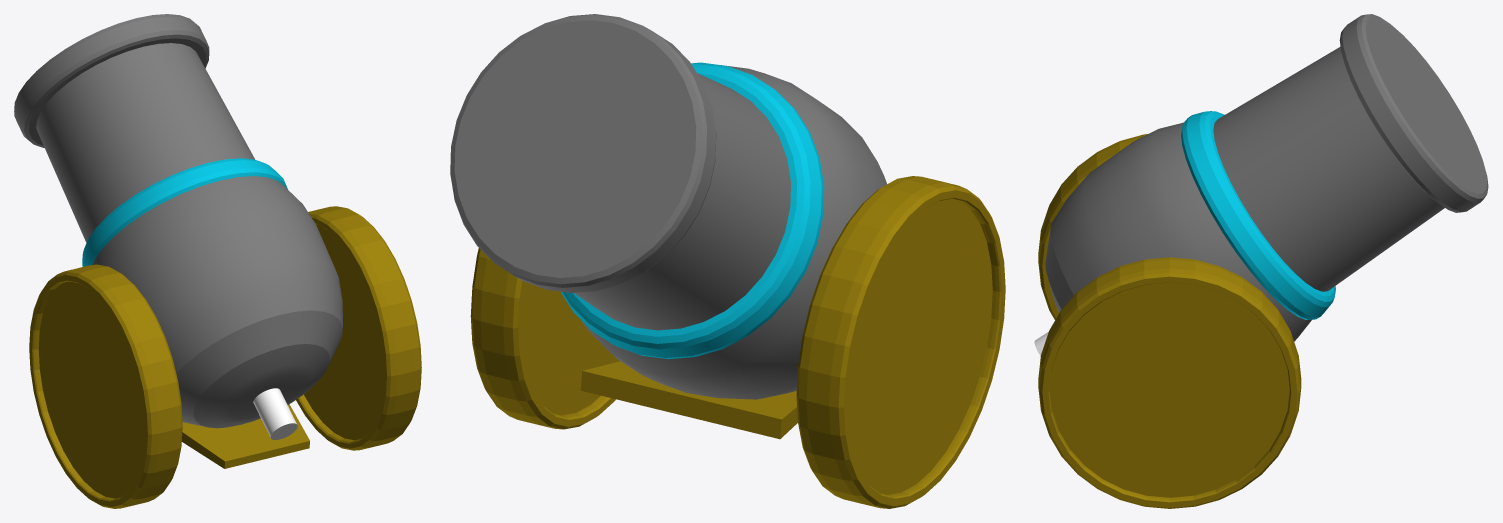
Rendered from connon_gun.fbx.
3 views of the same model, side by side, from view 1: azimuth 30°, elevation 25°; view 2: azimuth 150°, elevation 25°; view 3: azimuth 270°, elevation 25° (orthographic). The views are drawn at different scales.
Parts seen in each view (by area): view 1: connon, wheel, platform; view 2: connon, wheel, platform; view 3: connon, wheel.
Part boxes in pixels (bbox=[...]): connon: bbox=[14, 14, 342, 439]; wheel: bbox=[29, 206, 421, 508]; platform: bbox=[182, 404, 309, 468]; connon: bbox=[450, 14, 886, 399]; wheel: bbox=[470, 176, 1005, 508]; platform: bbox=[580, 361, 797, 439]; connon: bbox=[1034, 14, 1488, 355]; wheel: bbox=[1038, 134, 1301, 508].
Size of the model in its own units: 99.77 by 134 by 133.
